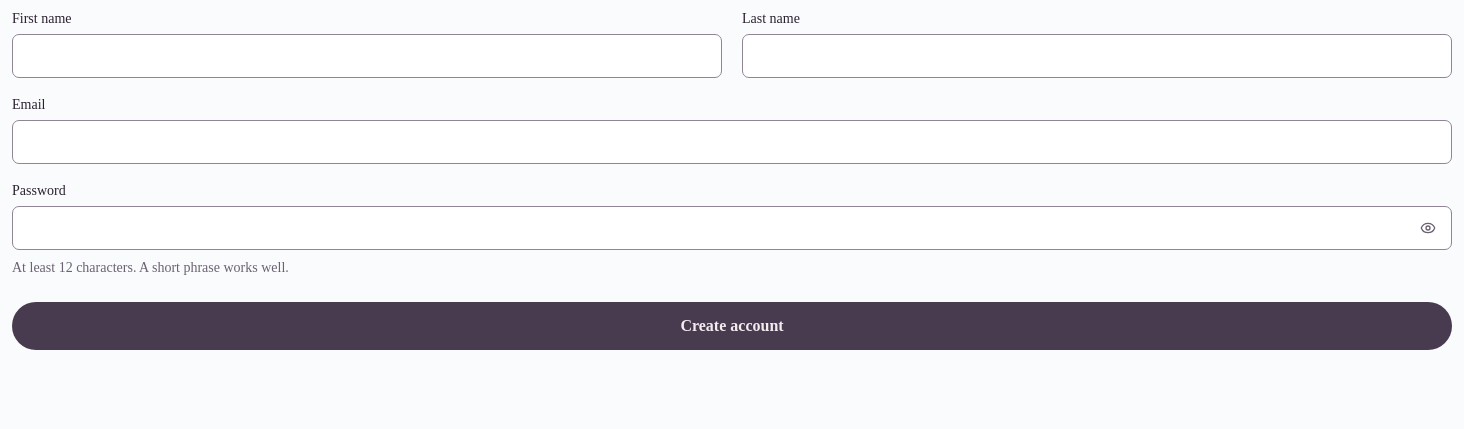
Test: RegisterForm › shows the duplicate-email conflict message
The image size is (1464, 429).
In the field labelled "First name": [367, 56] box [12,34,722,78], type " Ada "
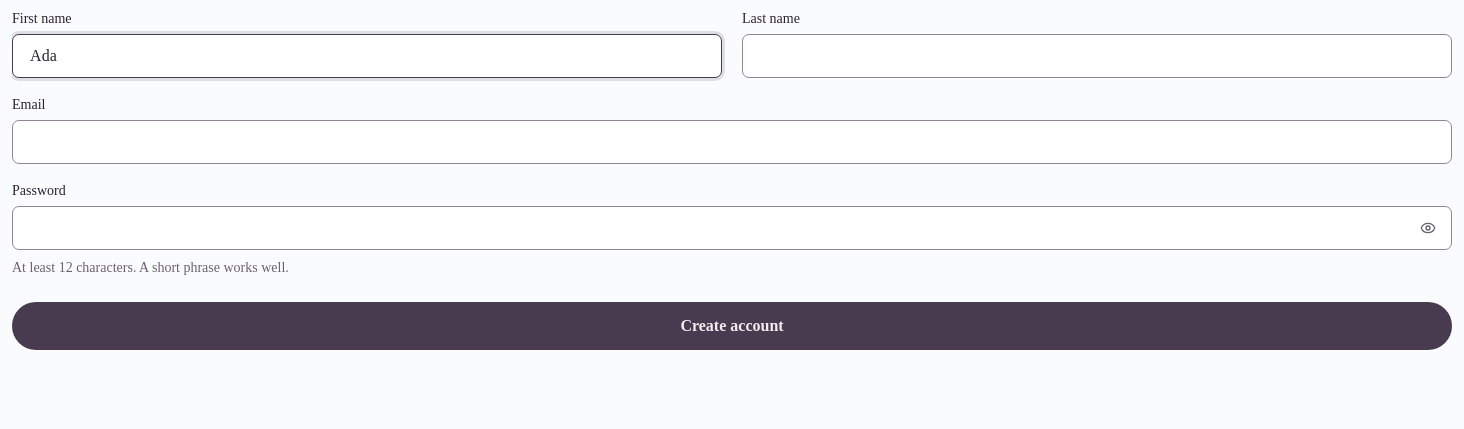
In the field labelled "Last name": [1097, 56] box [742,34,1452,78], type "Lovelace"
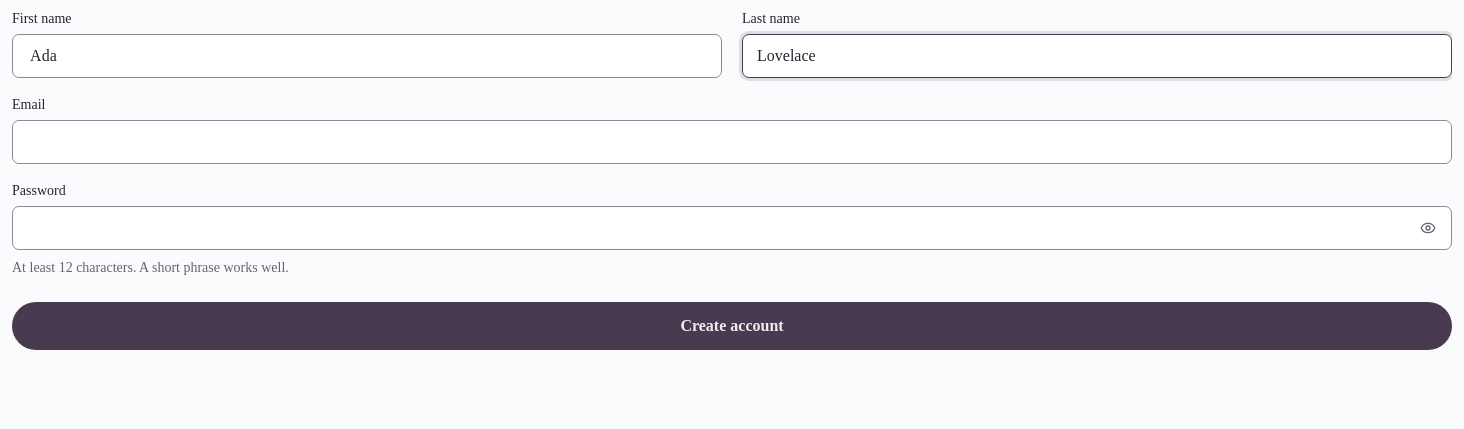
In the field labelled "Email": [732, 142] box [12,120,1452,164], type "ada@example.com"
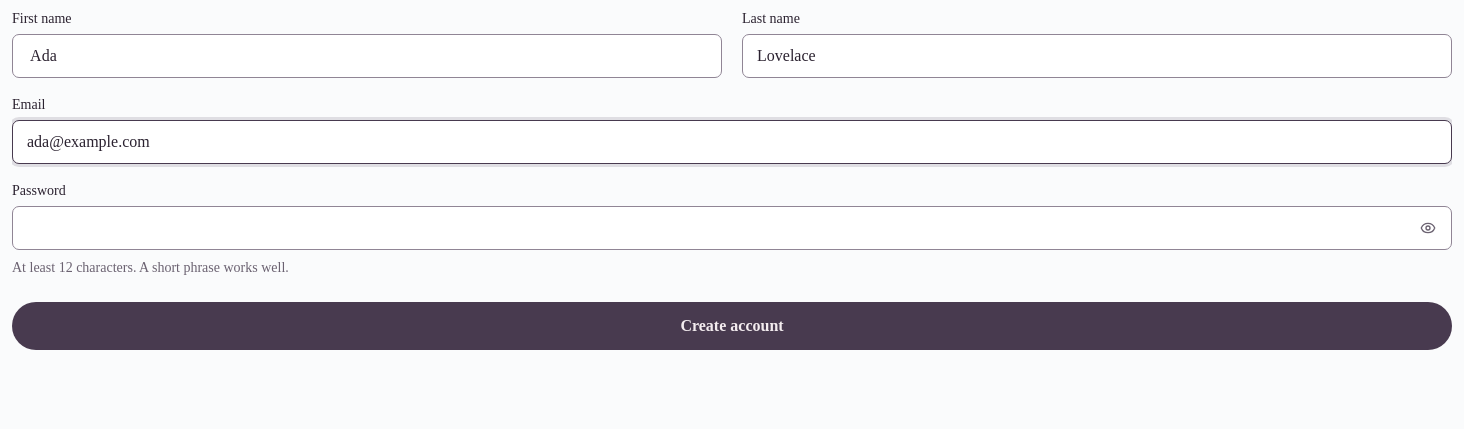
In the password field labelled "Password": [732, 228] box [12,206,1452,250], type "a long enough phrase"
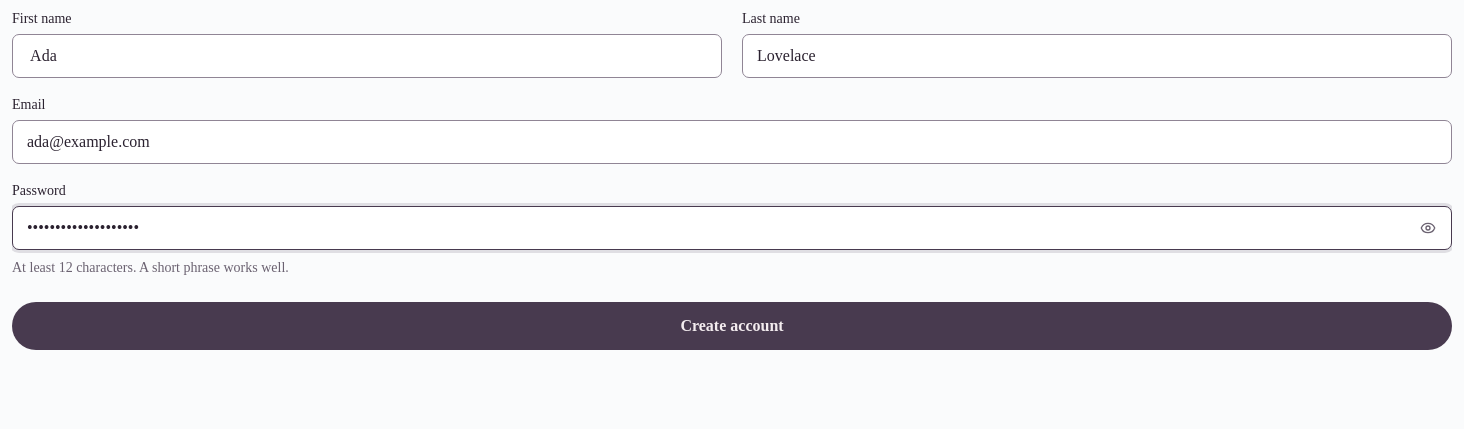
Click the button "Create account": [732, 326] box [12,302,1452,350]
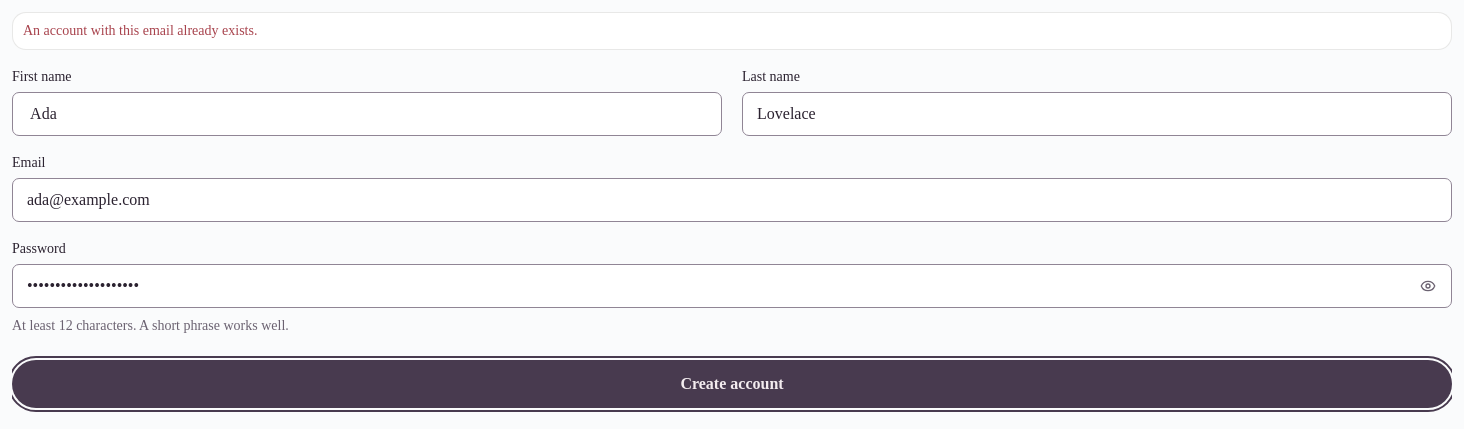
Now the message reads "An account with this email already exists.", box [23,23,258,38]
